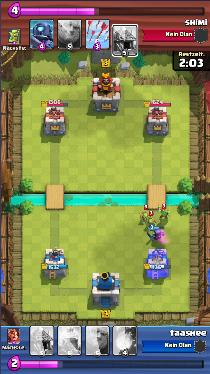ally_mini_pekka: (147, 227, 165, 241)
enemy_spear_goblin: (158, 204, 171, 219), (139, 211, 150, 224), (148, 216, 156, 230)
